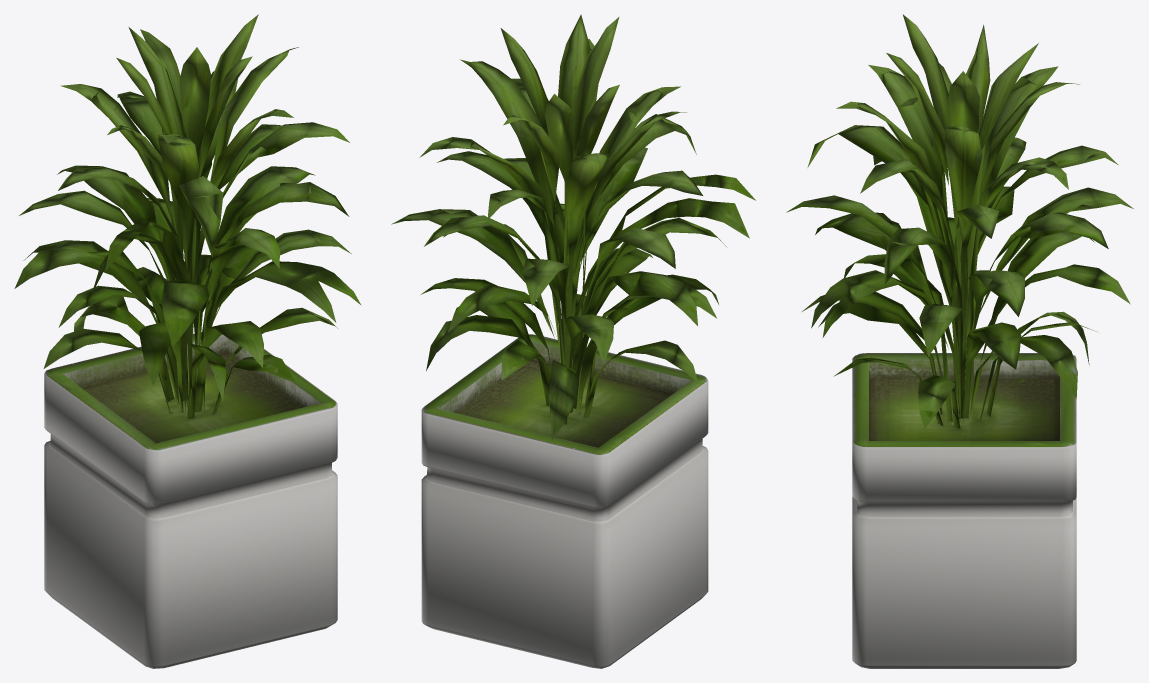
File: ENV_plant_C_v001.fbx
3 views of the same model, side by side, from view 1: azimuth 30°, elevation 25°; view 2: azimuth 150°, elevation 25°; view 3: azimuth 270°, elevation 25° (orthographic). The views are drawn at different scales.
Visible parts, largest first — view 1: tripo_node_bb097544-95d7-4d59-bfac-3ab6ef12606c; view 2: tripo_node_bb097544-95d7-4d59-bfac-3ab6ef12606c; view 3: tripo_node_bb097544-95d7-4d59-bfac-3ab6ef12606c.
Boxes of the visible parts, x1,y1,x2,y2 form: tripo_node_bb097544-95d7-4d59-bfac-3ab6ef12606c: [14, 14, 361, 668]; tripo_node_bb097544-95d7-4d59-bfac-3ab6ef12606c: [391, 14, 755, 668]; tripo_node_bb097544-95d7-4d59-bfac-3ab6ef12606c: [786, 14, 1133, 668].
Size of the model in its own units: 54.49 by 99.8 by 52.93.
1 material, 1 textured.
